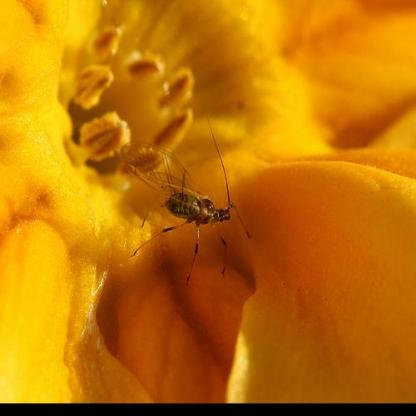aphid: (119, 128, 256, 263)
